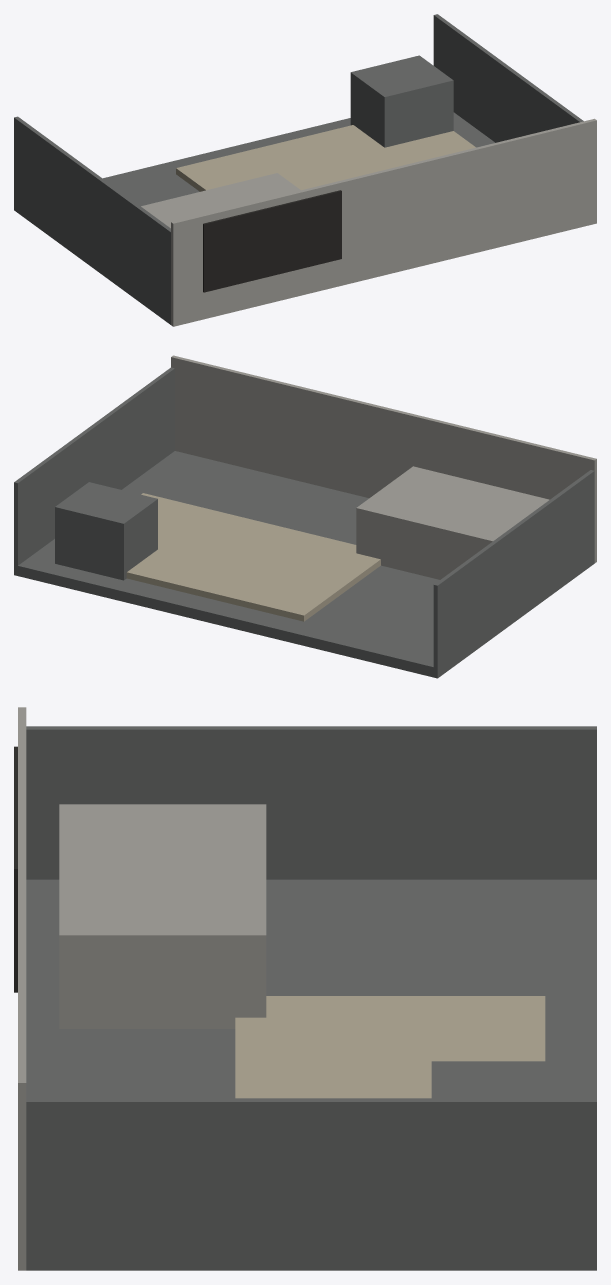
The model's file is cassette-deck-gutted.glb.
The picture shows the model from 3 angles, top to bottom: view 1: azimuth 30°, elevation 25°; view 2: azimuth 150°, elevation 25°; view 3: azimuth 270°, elevation 25°; orthographic projection. The views are drawn at different scales.
Parts seen in each view (by area): view 1: brushed, metal, plastic-dark, plastic-light; view 2: metal, brushed, plastic-light; view 3: metal, brushed, plastic-light, plastic-dark.
Boxes of the visible parts, x1=… form: brushed: x1=141, y1=118, x2=596, y2=326; metal: x1=14, y1=14, x2=583, y2=324; plastic-dark: x1=203, y1=190, x2=341, y2=292; plastic-light: x1=176, y1=125, x2=475, y2=191; metal: x1=14, y1=367, x2=594, y2=678; brushed: x1=171, y1=355, x2=596, y2=579; plastic-light: x1=126, y1=493, x2=380, y2=621; metal: x1=26, y1=726, x2=596, y2=1270; brushed: x1=18, y1=707, x2=266, y2=1270; plastic-light: x1=235, y1=996, x2=545, y2=1098; plastic-dark: x1=14, y1=746, x2=17, y2=992.
Bounding box in the file's own units: 0.43 × 0.1 × 0.282.
